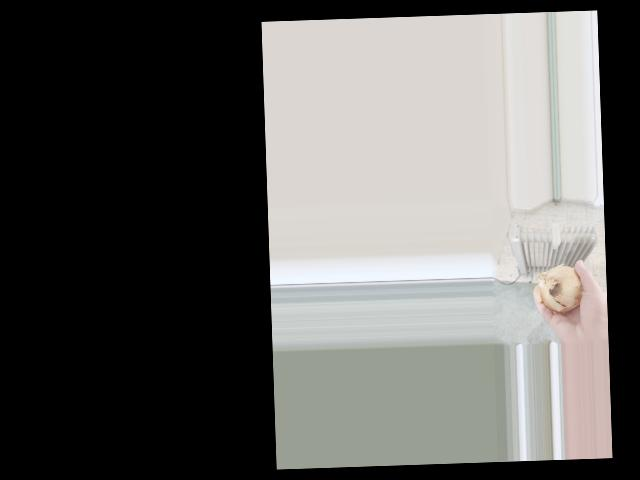onion: (539, 263, 585, 321)
